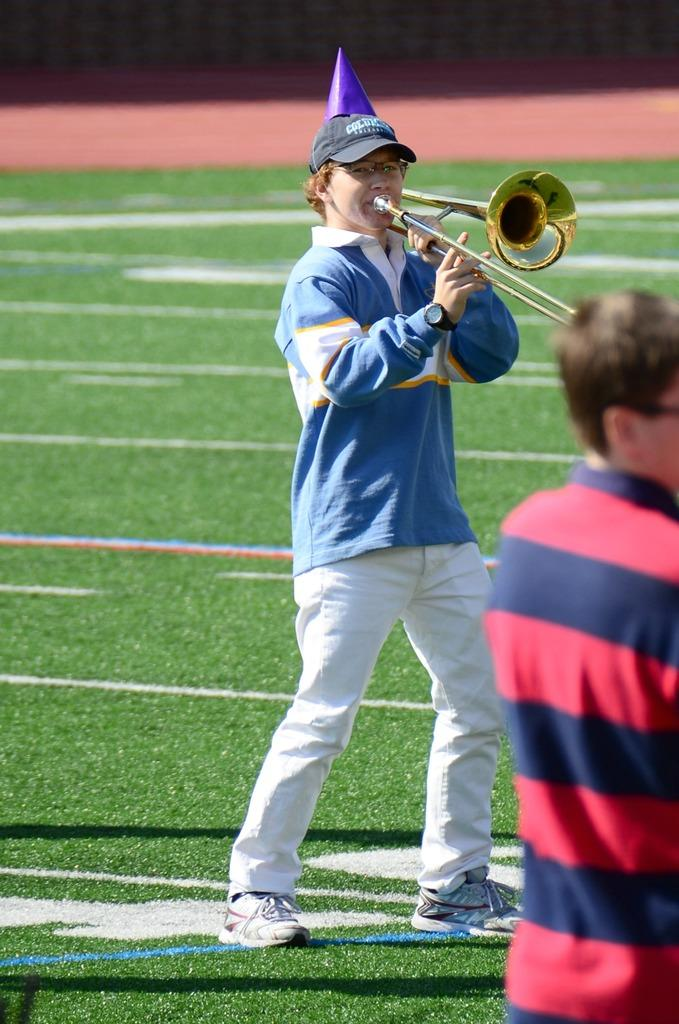Hat: (310, 112, 418, 172)
